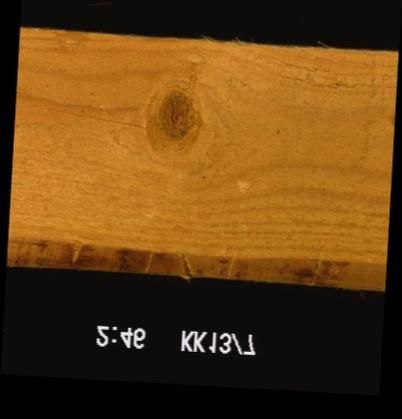sound_knot: (147, 80, 200, 156)
split: (14, 104, 149, 125)
wave: (6, 247, 384, 276)
